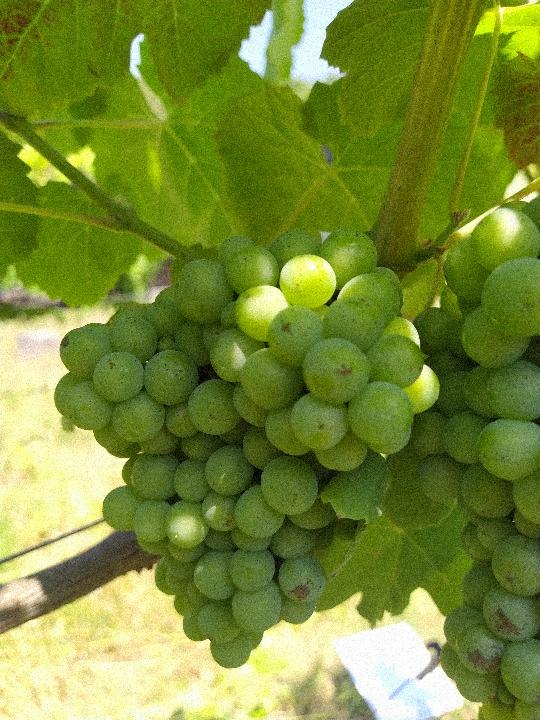grape: (52, 226, 444, 671)
